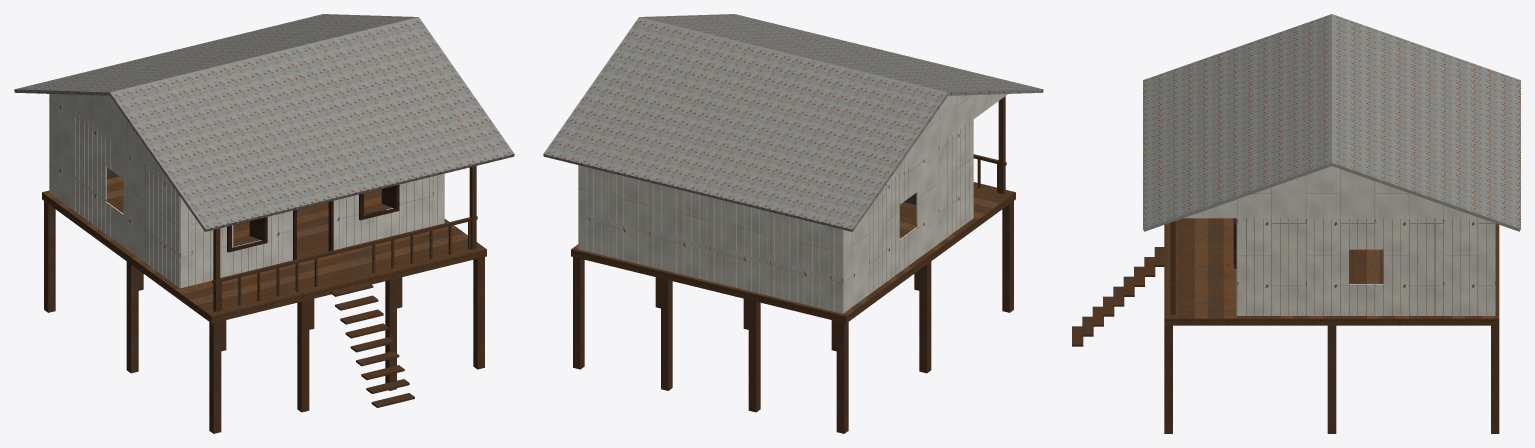
File: rumah_a.glb
3 renders of one model, left to right at view 1: azimuth 30°, elevation 25°; view 2: azimuth 150°, elevation 25°; view 3: azimuth 270°, elevation 25°, orthographic.
Parts seen in each view (by area): view 1: rumah_a_seng, rumah_a_cat_putih, rumah_a_kayu_balok, rumah_a_kayu_papan, rumah_a_kayu_tua; view 2: rumah_a_seng, rumah_a_cat_putih, rumah_a_kayu_balok, rumah_a_kayu_papan; view 3: rumah_a_seng, rumah_a_cat_putih, rumah_a_kayu_papan, rumah_a_kayu_balok.
Boxes of the visible parts, x1=… form: rumah_a_seng: x1=14, y1=14, x2=514, y2=231; rumah_a_cat_putih: x1=49, y1=94, x2=444, y2=287; rumah_a_kayu_balok: x1=44, y1=166, x2=484, y2=433; rumah_a_kayu_papan: x1=42, y1=176, x2=486, y2=323; rumah_a_kayu_tua: x1=227, y1=185, x2=399, y2=260; rumah_a_seng: x1=543, y1=14, x2=1043, y2=231; rumah_a_cat_putih: x1=578, y1=94, x2=1007, y2=313; rumah_a_kayu_balok: x1=573, y1=96, x2=1013, y2=433; rumah_a_kayu_papan: x1=571, y1=182, x2=1015, y2=323; rumah_a_seng: x1=1143, y1=14, x2=1520, y2=231; rumah_a_cat_putih: x1=1183, y1=166, x2=1495, y2=315; rumah_a_kayu_papan: x1=1164, y1=218, x2=1499, y2=325; rumah_a_kayu_balok: x1=1072, y1=221, x2=1499, y2=433.
Size of the model in its own units: 8.2 by 7.2 by 10.45.
6 materials, 5 textured.
